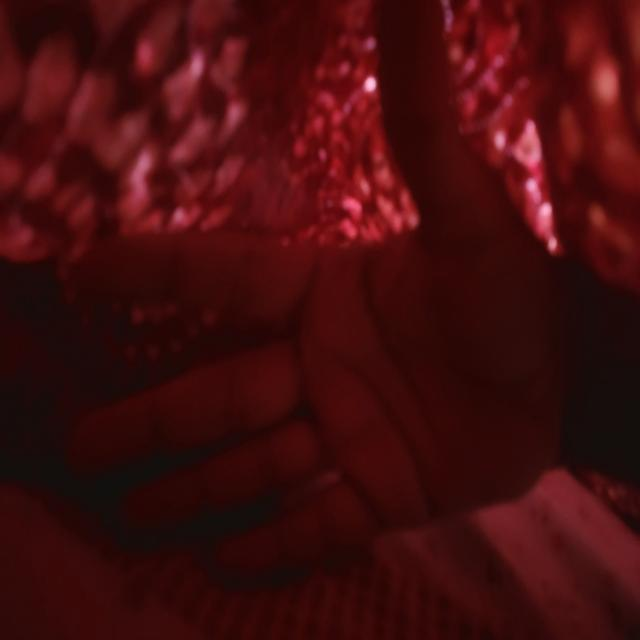Open Hand: (71, 6, 566, 584)
